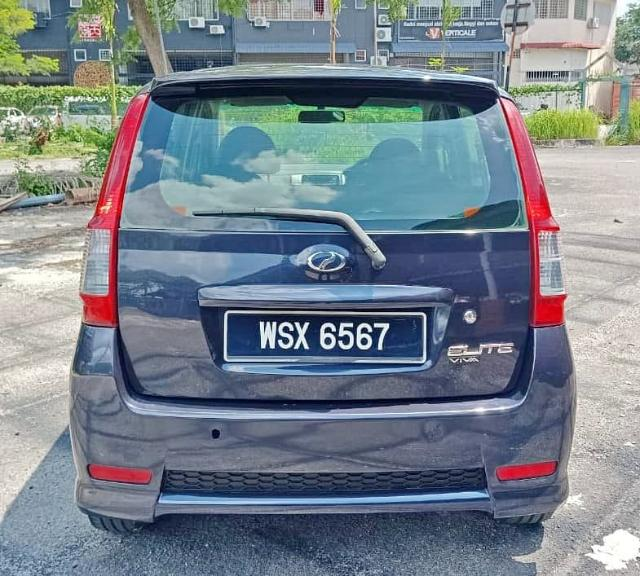License_Plate: (233, 316, 409, 358)
car: (67, 56, 574, 523)
